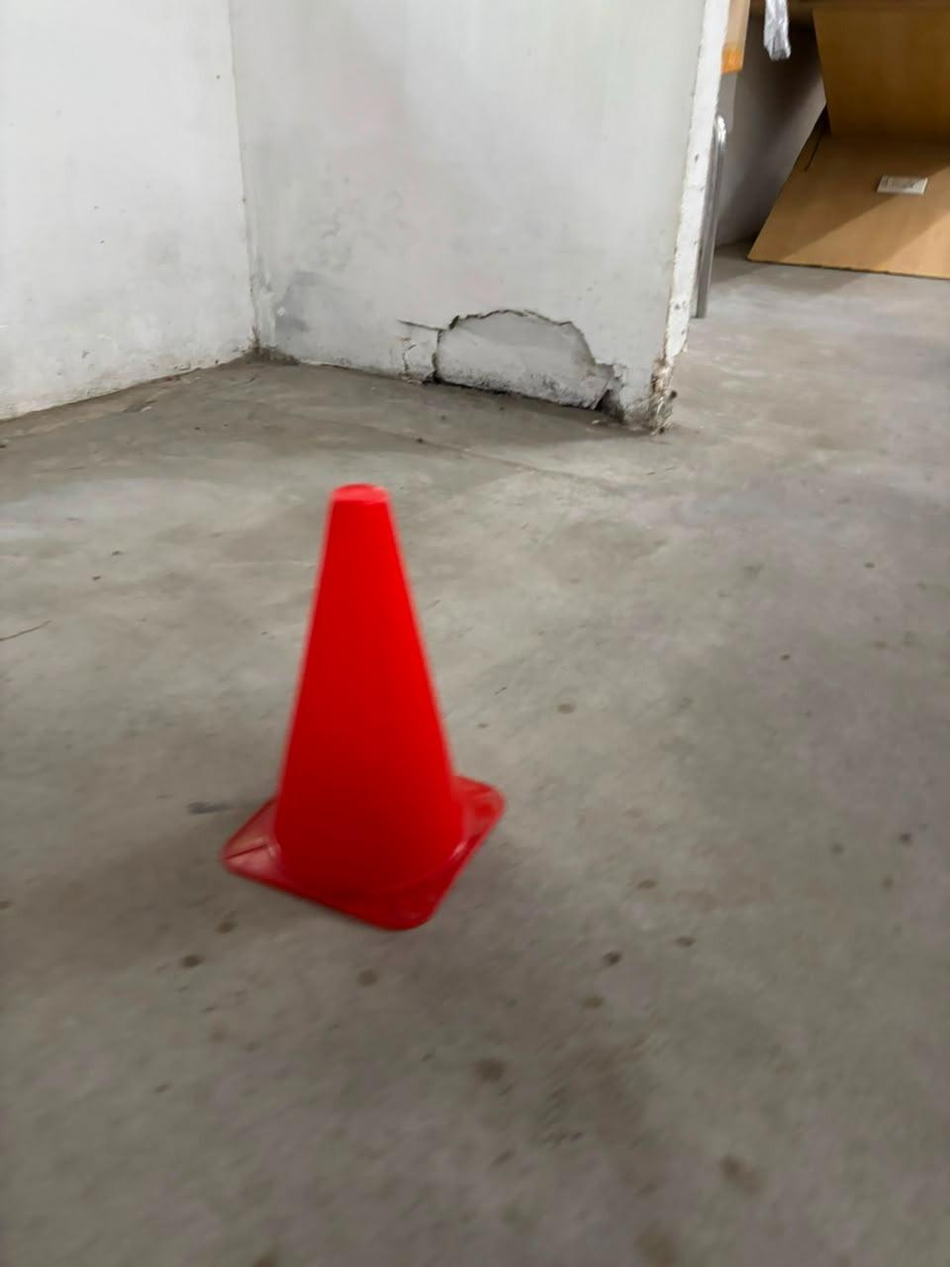0 cone: (222, 484, 504, 928)
